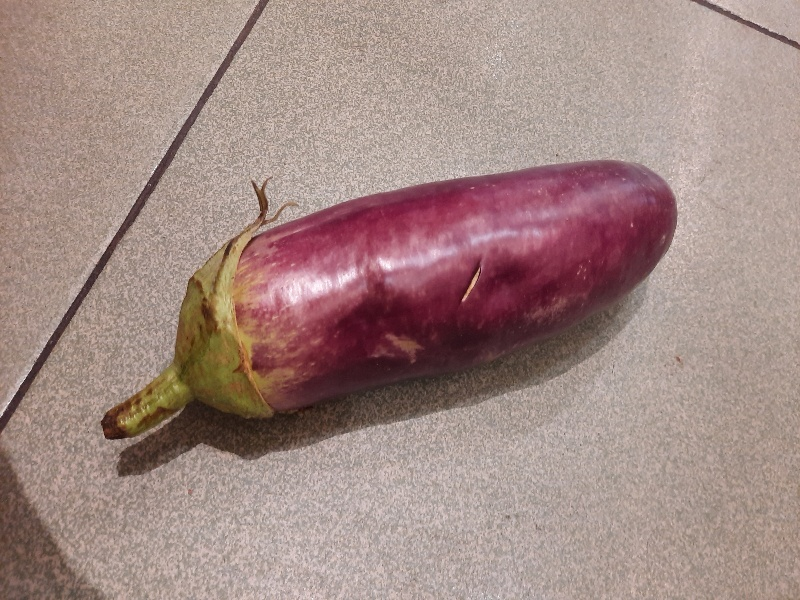vege: (93, 153, 681, 448)
